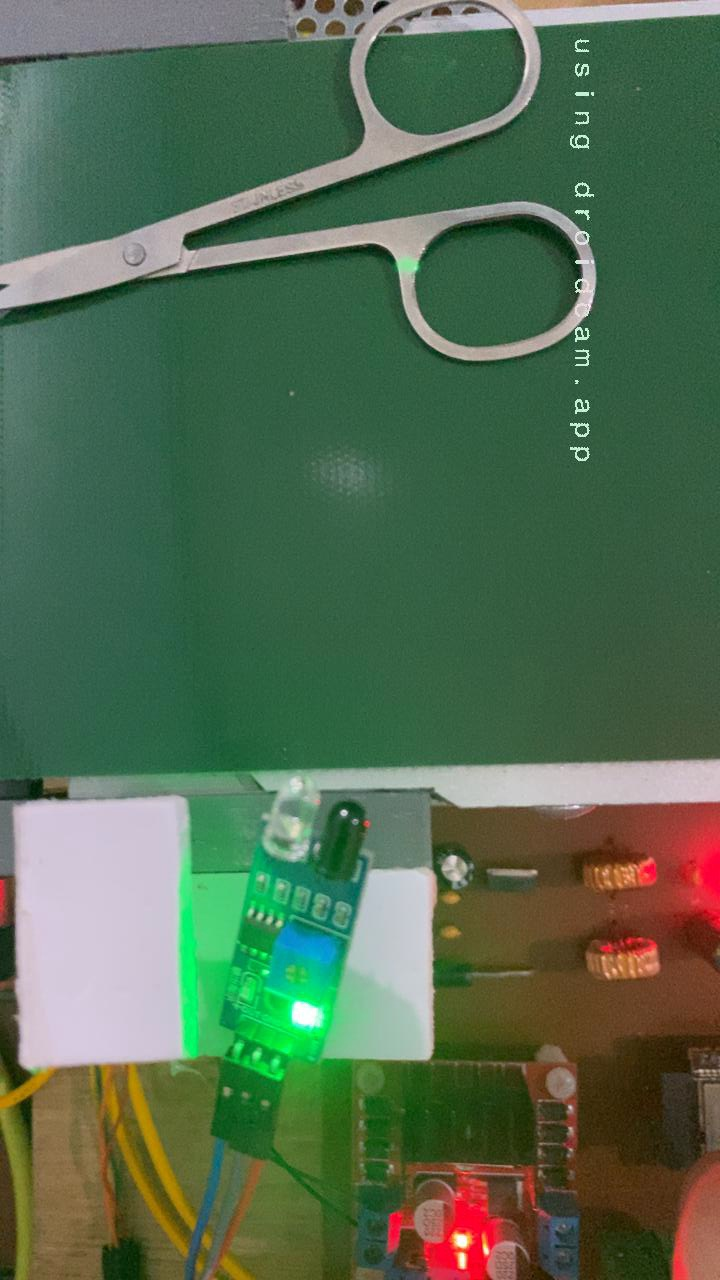scissor: (0, 32, 605, 369)
